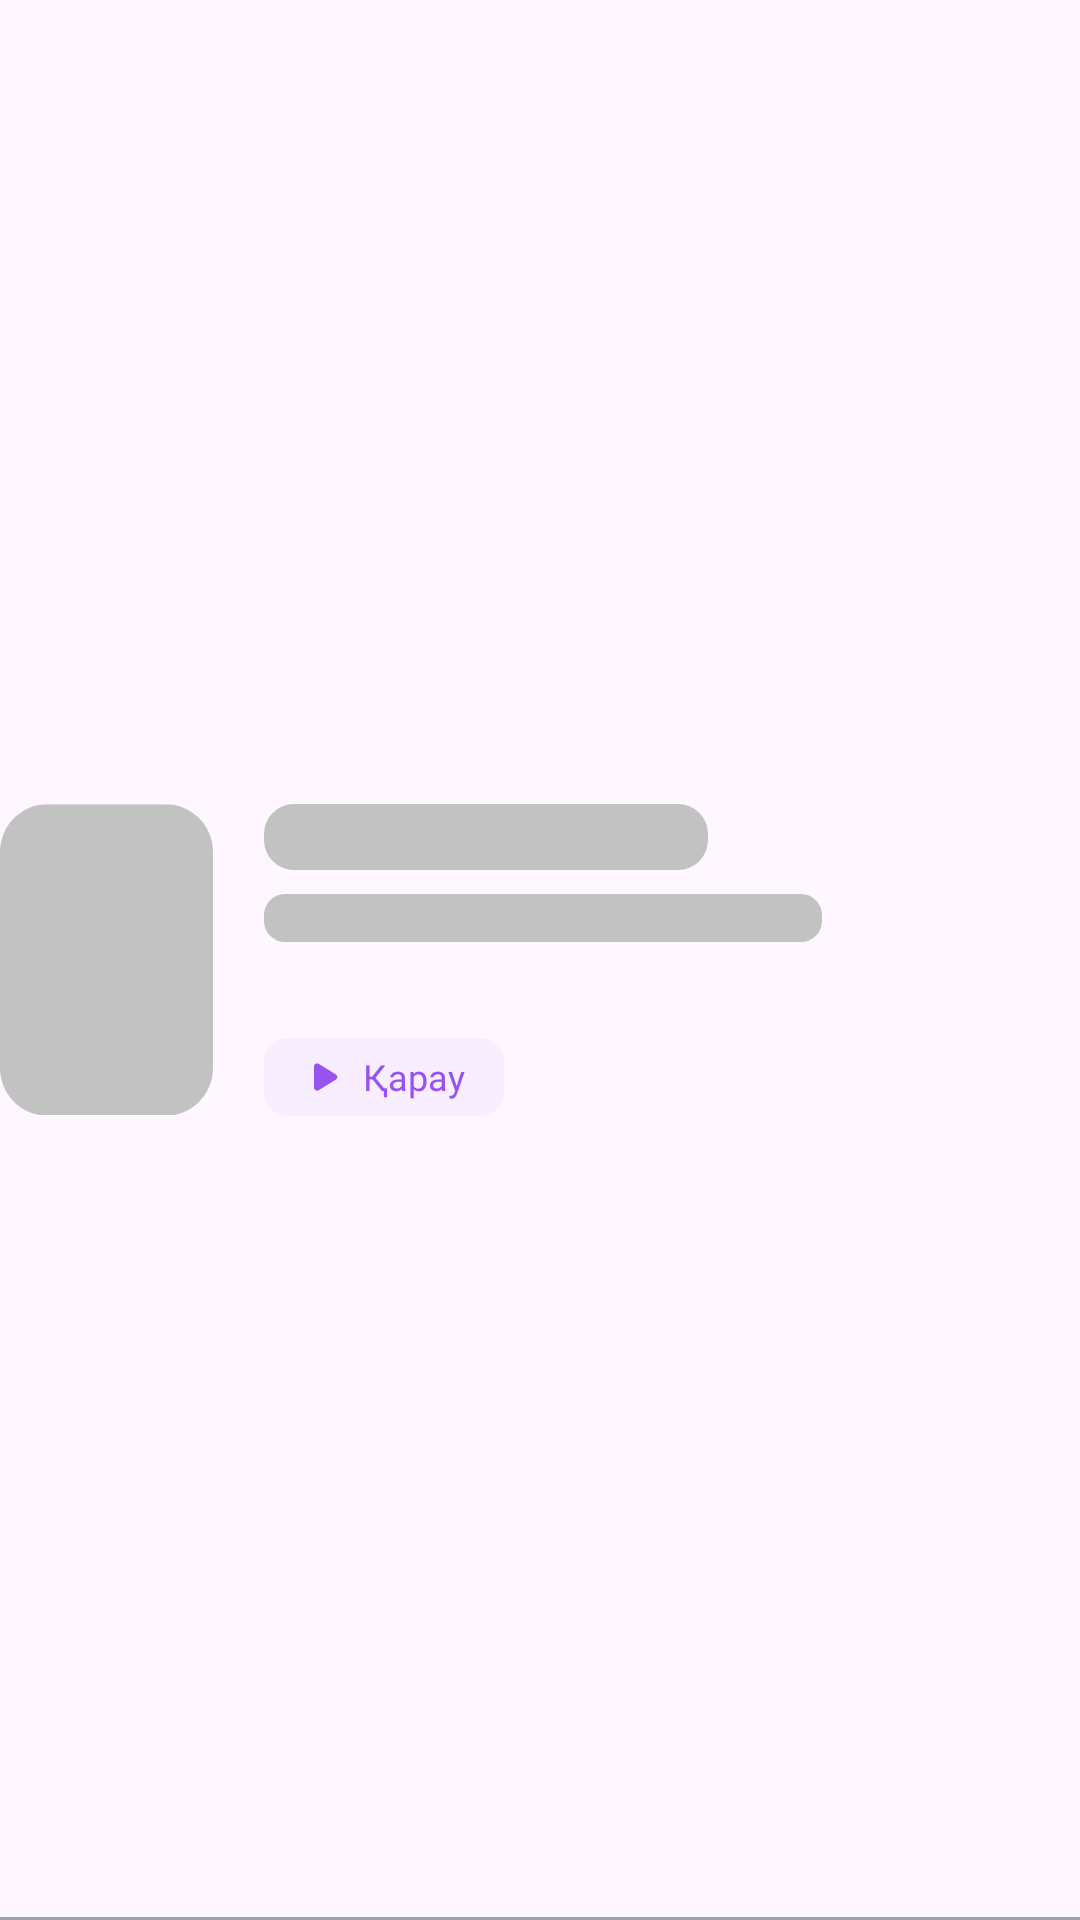

Screen size 1080px x 1920px. Icon name, then its center in pixels as (x=x, y=y):
play: (x=326, y=1077)
